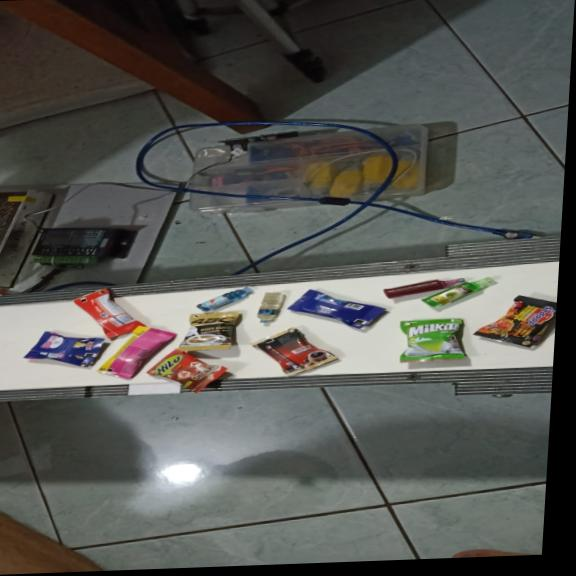Plastik: (470, 293, 557, 349), (249, 325, 340, 376), (97, 323, 178, 380), (286, 286, 386, 331), (145, 346, 231, 395), (71, 284, 148, 338), (24, 328, 106, 369), (398, 317, 468, 362), (179, 309, 240, 351), (421, 276, 493, 306), (383, 277, 464, 298), (196, 286, 253, 310), (256, 289, 284, 322)
